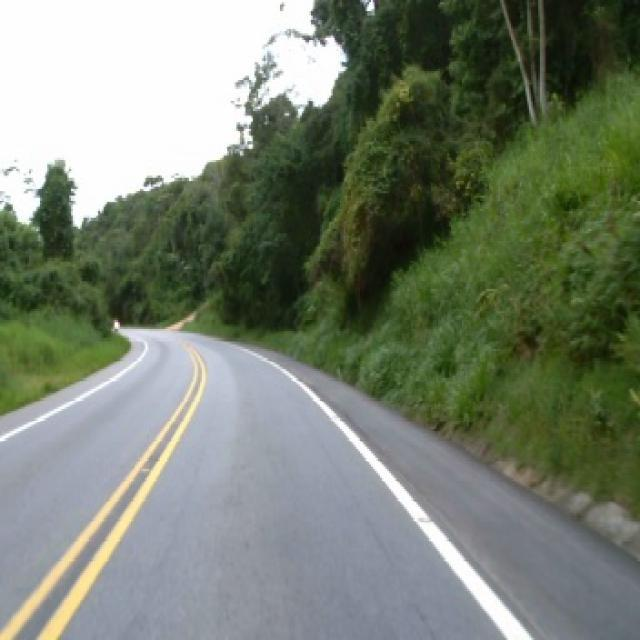Poth-hole: (416, 513, 429, 520)
